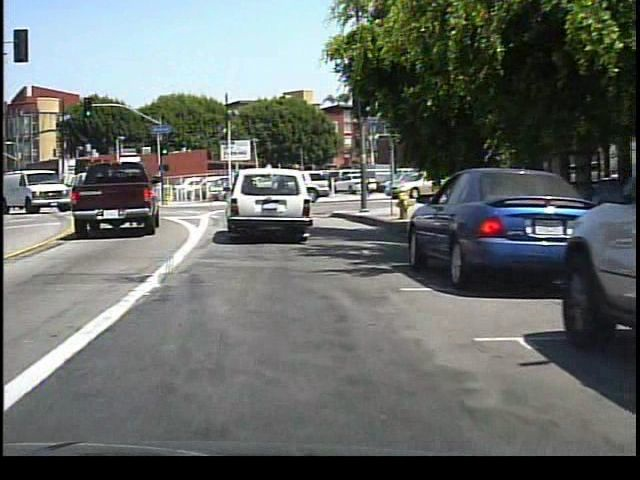person: (355, 167, 371, 200)
